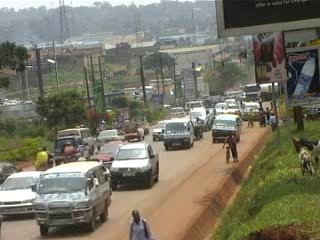Car: (0, 167, 52, 219), (91, 138, 127, 169), (94, 126, 125, 152), (184, 106, 212, 133), (0, 159, 25, 185), (148, 118, 173, 140), (212, 100, 228, 117), (225, 97, 240, 110)
Motorcycle: (33, 143, 54, 172), (62, 139, 83, 165), (193, 116, 205, 139)
